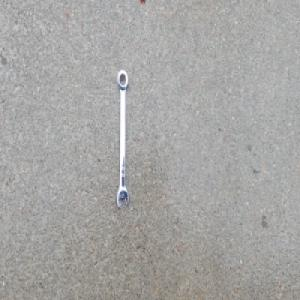Wrench: (116, 68, 129, 209)
